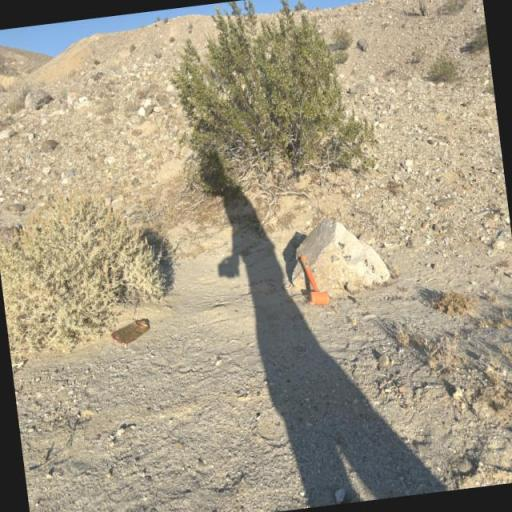mallet: (290, 241, 336, 316)
